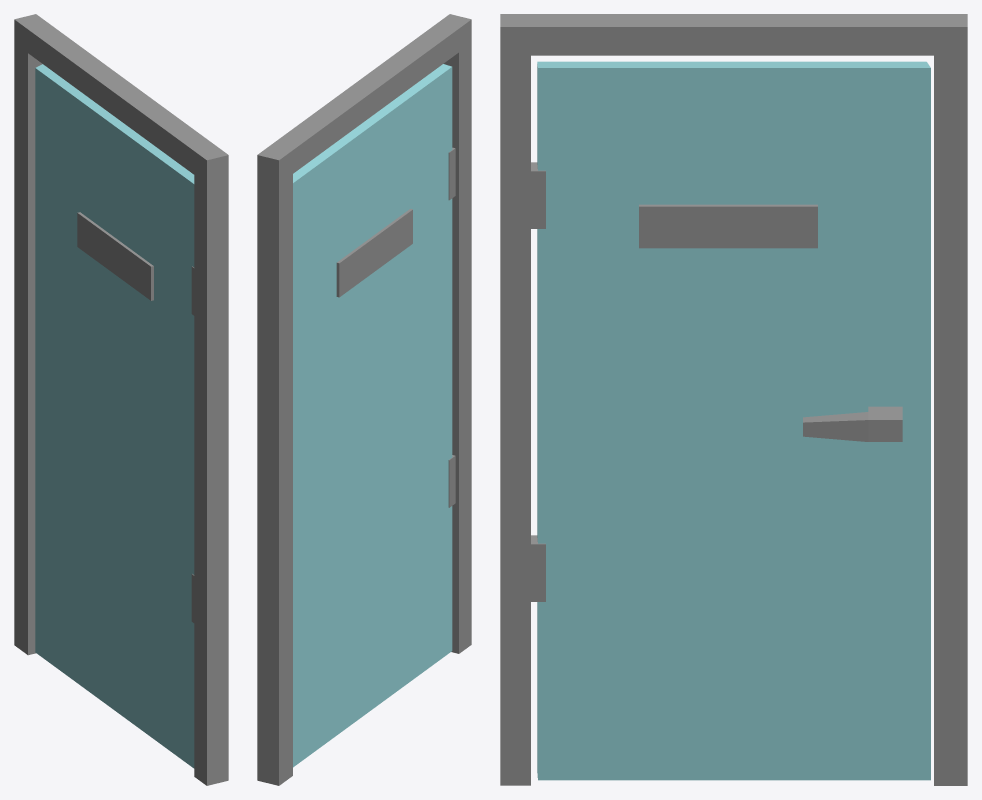
The model's file is door.fbx.
3 views of the same model, side by side, from view 1: azimuth 30°, elevation 25°; view 2: azimuth 150°, elevation 25°; view 3: azimuth 270°, elevation 25° (orthographic). The views are drawn at different scales.
Visible parts, largest first — view 1: door, door.frame, sign; view 2: door, door.frame, sign; view 3: door, door.frame, sign, handle.
Part boxes in pixels (x1,y1,x2,y2): door: [35, 64, 194, 768]; door.frame: [14, 14, 228, 785]; sign: [77, 212, 153, 300]; door: [293, 64, 452, 767]; door.frame: [257, 14, 471, 785]; sign: [336, 209, 412, 297]; door: [537, 61, 930, 780]; door.frame: [500, 14, 967, 785]; sign: [639, 204, 817, 248]; handle: [803, 406, 902, 441].
Bounding box in the file's own units: 131 × 1932 × 1078.
